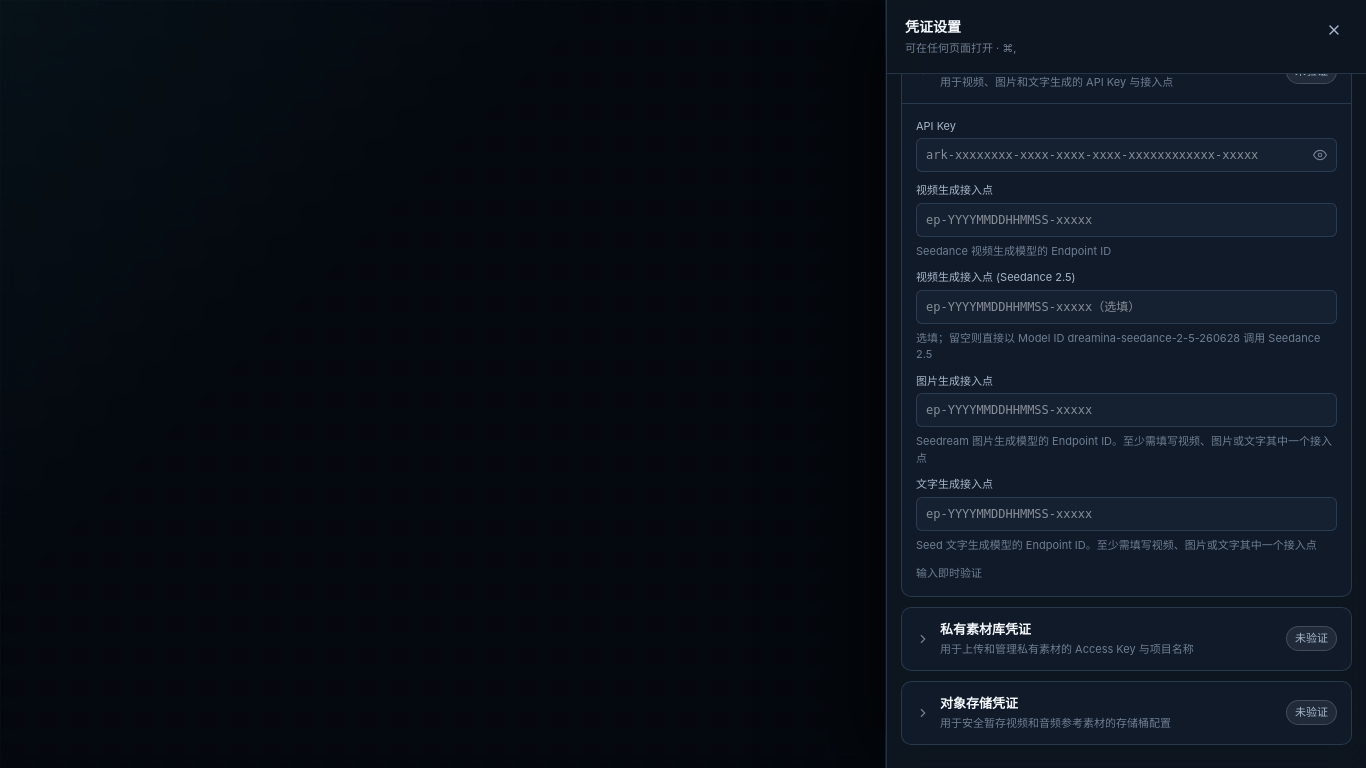
Scenario: CredentialsDrawer › only one section is expanded at a time — clicking another collapses the first
(page scrolled)
expect the password field labelled "API Key" is shown: met, box left=916, top=138, right=1337, bottom=172
Click the button "私有素材库凭证 用于上传和管理私有素材的 Access Key 与项目名称 未验证" at point(986, 628), box left=902, top=608, right=1351, bottom=670
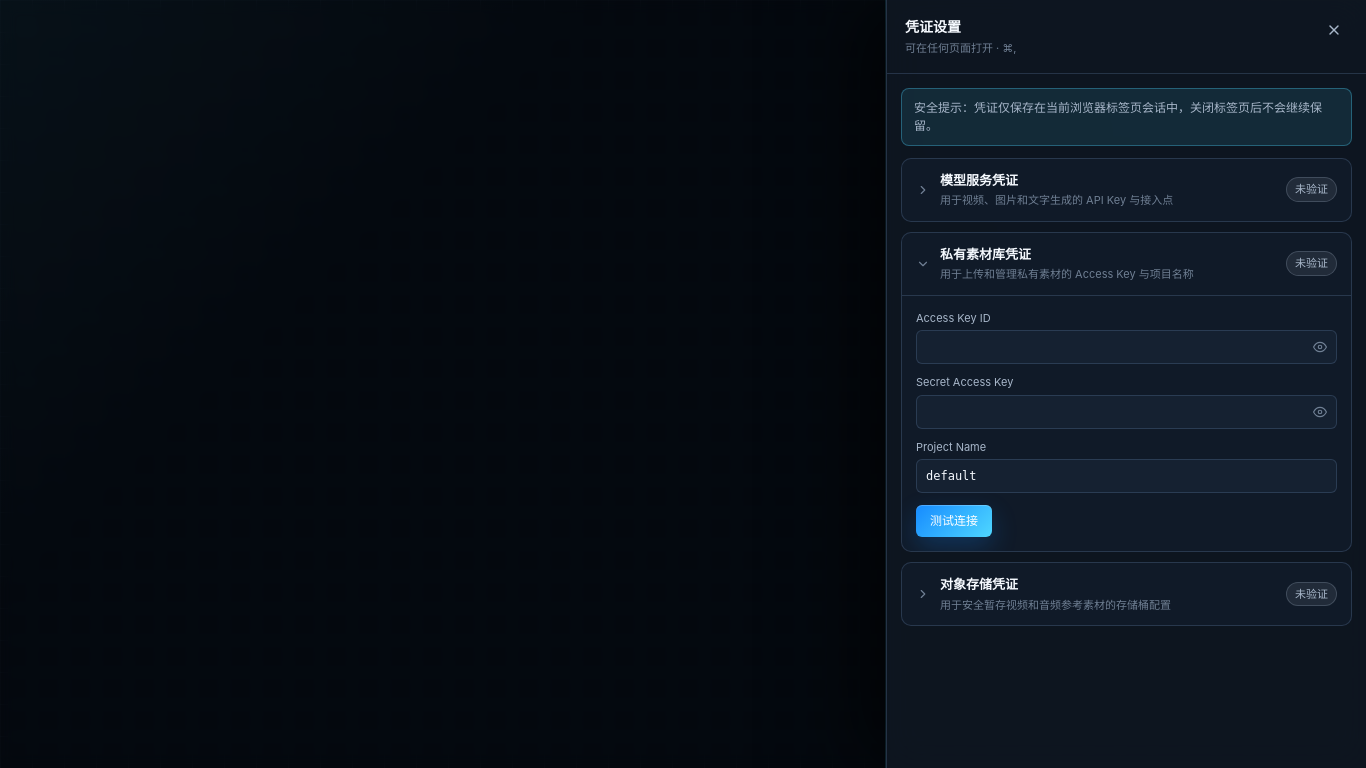
expect the field labelled "Project Name" is shown: met, box left=916, top=459, right=1337, bottom=493
